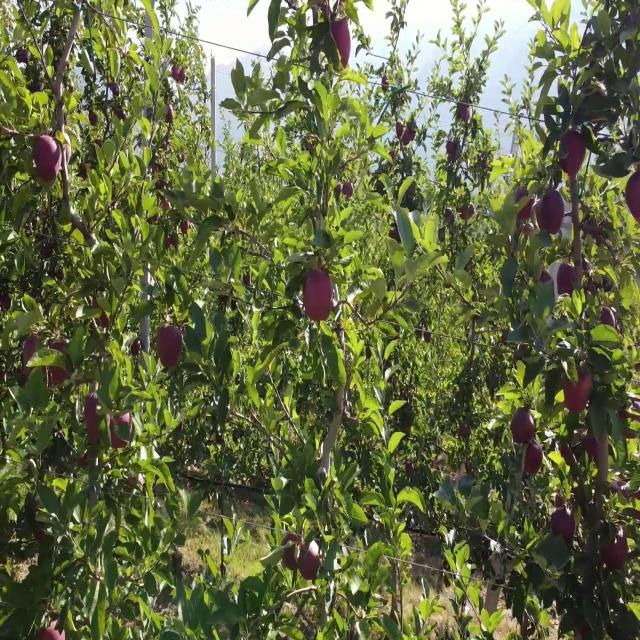apple: (304, 270, 334, 324), (560, 127, 587, 178), (564, 369, 593, 414), (156, 327, 184, 370), (36, 135, 61, 183), (48, 334, 70, 386), (540, 191, 565, 235), (604, 533, 629, 574), (584, 433, 611, 468), (332, 21, 352, 68), (84, 405, 107, 443), (512, 412, 536, 448), (300, 547, 323, 583), (84, 398, 103, 441), (552, 511, 576, 544), (112, 412, 132, 450), (284, 533, 303, 571), (620, 405, 640, 441), (48, 334, 68, 370), (556, 263, 575, 299), (516, 206, 536, 240), (84, 398, 101, 434), (24, 334, 44, 364), (524, 447, 544, 476), (92, 298, 110, 329), (336, 35, 352, 69), (48, 334, 68, 361), (628, 177, 640, 220), (40, 618, 62, 639), (628, 191, 640, 226), (584, 433, 599, 460), (536, 199, 547, 233), (172, 63, 187, 85), (52, 369, 70, 386), (93, 312, 110, 329), (604, 305, 616, 327), (404, 127, 416, 148), (560, 447, 573, 466), (460, 106, 472, 126), (0, 291, 12, 311), (164, 234, 180, 249), (576, 625, 591, 639), (320, 7, 334, 21), (464, 206, 476, 220), (180, 220, 191, 235), (116, 106, 127, 121), (448, 142, 458, 158), (396, 120, 404, 139), (88, 113, 98, 128), (36, 526, 45, 542), (344, 184, 353, 199), (460, 426, 468, 441), (112, 85, 120, 100), (168, 106, 175, 123), (44, 248, 53, 261), (80, 455, 88, 469), (408, 462, 415, 476), (384, 78, 390, 92)
